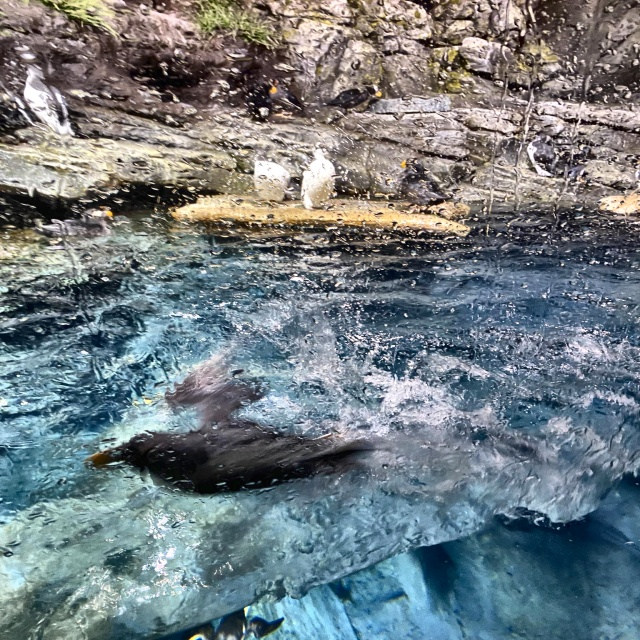puffin: (86, 350, 375, 498), (15, 45, 82, 141), (390, 156, 456, 216), (32, 205, 117, 246), (297, 145, 342, 214), (521, 132, 579, 180), (244, 78, 297, 126), (250, 157, 292, 208), (326, 82, 384, 118)
